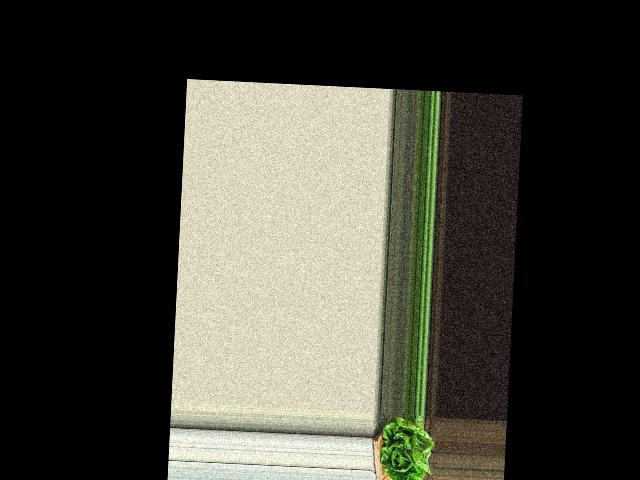lettuce: (376, 415, 433, 480)
